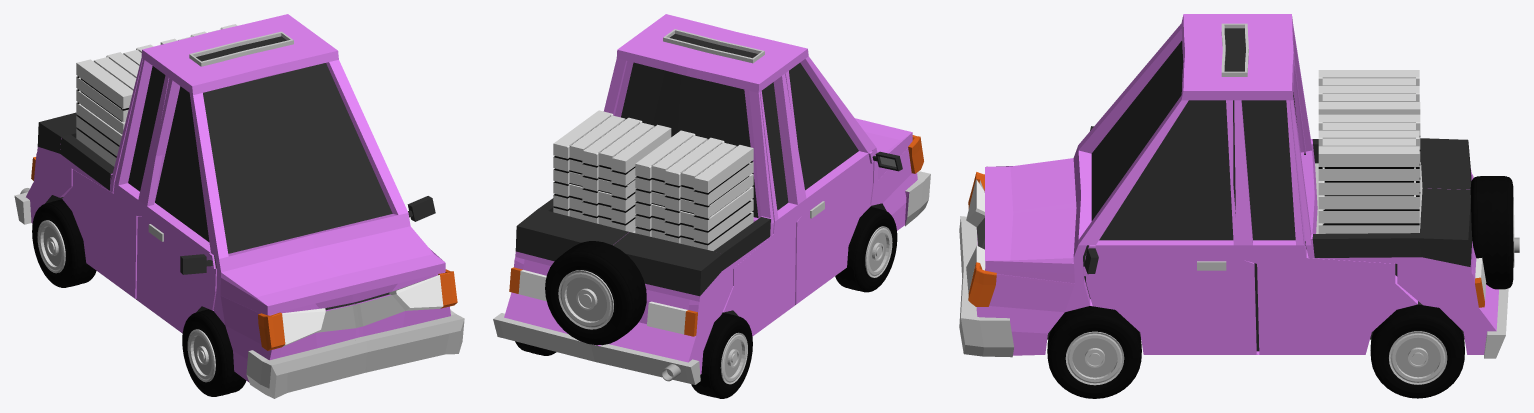
The model's file is CR-CARO-3A.fbx.
3 renders of one model, left to right at view 1: azimuth 30°, elevation 25°; view 2: azimuth 150°, elevation 25°; view 3: azimuth 270°, elevation 25°, orthographic. The views are drawn at different scales.
Parts seen in each view (by area): view 1: BODY, WHEEL.004, WHEEL.001; view 2: BODY, Back wheel, WHEEL.004, WHEEL.001; view 3: BODY, WHEEL.003, WHEEL.002, Back wheel.
Boxes of the visible parts, <box> form: BODY: <box>14,14,464,398</box>; WHEEL.004: <box>32,199,96,287</box>; WHEEL.001: <box>182,309,246,396</box>; BODY: <box>493,14,930,384</box>; Back wheel: <box>545,241,646,345</box>; WHEEL.004: <box>691,313,752,398</box>; WHEEL.001: <box>835,207,897,292</box>; BODY: <box>959,14,1508,358</box>; WHEEL.003: <box>1047,306,1141,398</box>; WHEEL.002: <box>1370,304,1464,398</box>; Back wheel: <box>1470,176,1514,289</box>.
Bounding box in the file's own units: 131 × 136 × 232.
